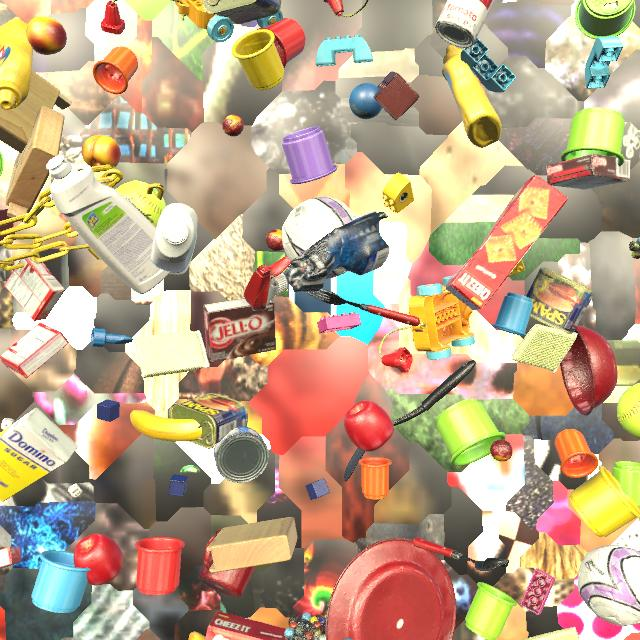ycb_003_cracker_box: (446, 175, 568, 310), (205, 611, 287, 640)
ycb_004_sugar_box: (0, 407, 78, 502)
ycb_005_tomato_soup_can: (435, 0, 496, 48)
ycb_006_mustard_bottle: (442, 45, 502, 148), (0, 18, 33, 110)
ycb_007_tuna_fish_can: (214, 426, 269, 483)
ycb_008_pudding_box: (203, 298, 276, 362), (546, 154, 631, 190)
ycb_009_gelatin_box: (4, 257, 65, 321), (0, 323, 69, 378), (0, 546, 22, 569)
ycb_010_potted_meat_can: (526, 267, 594, 334), (169, 393, 248, 449), (202, 0, 281, 25)
ycb_011_banana: (130, 410, 202, 442), (189, 632, 205, 640)
ycb_013_apple: (344, 400, 394, 452), (74, 533, 123, 585)
ycb_015_peach: (26, 16, 67, 55), (82, 135, 121, 167)
